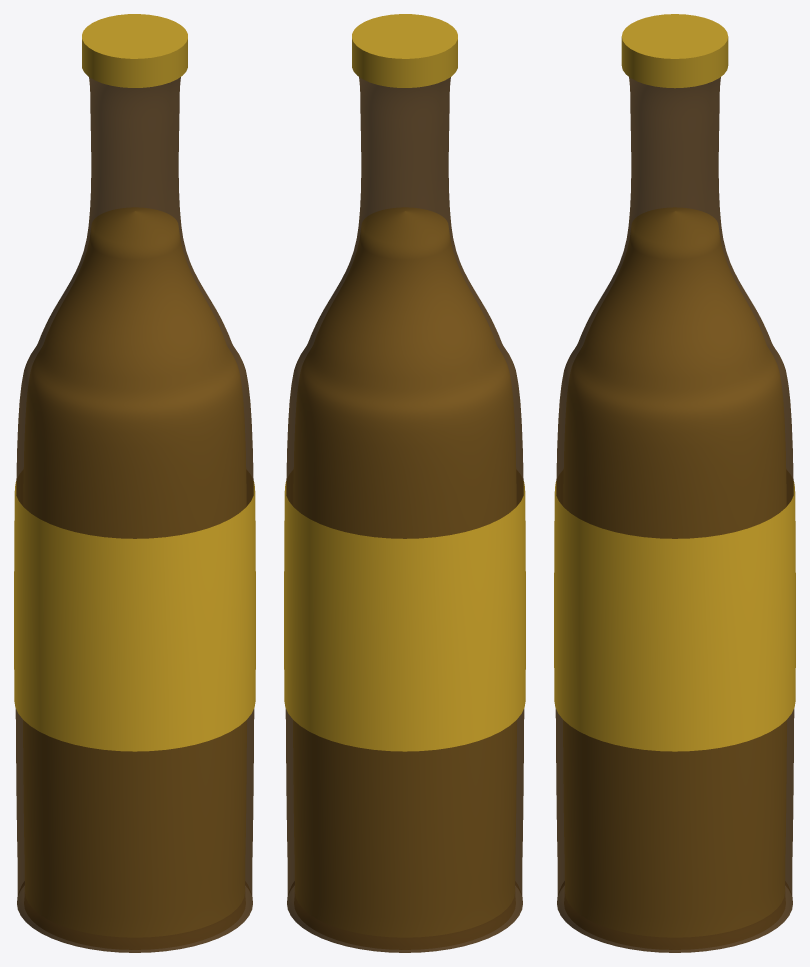
Rendered from aguila.glb.
3 views of the same model, side by side, from view 1: azimuth 30°, elevation 25°; view 2: azimuth 150°, elevation 25°; view 3: azimuth 270°, elevation 25° (orthographic).
Parts seen in each view (by area): view 1: vidrio, liquido, etiqueta, tapa; view 2: vidrio, liquido, etiqueta, tapa; view 3: vidrio, liquido, etiqueta, tapa.
Part boxes in pixels (x1=…): vidrio: x1=15, y1=77, x2=254, y2=952; liquido: x1=23, y1=207, x2=246, y2=937; etiqueta: x1=14, y1=481, x2=255, y2=751; tapa: x1=82, y1=14, x2=187, y2=87; vidrio: x1=285, y1=77, x2=524, y2=952; liquido: x1=293, y1=207, x2=516, y2=937; etiqueta: x1=284, y1=481, x2=525, y2=751; tapa: x1=352, y1=14, x2=457, y2=87; vidrio: x1=555, y1=77, x2=794, y2=952; liquido: x1=563, y1=207, x2=786, y2=937; etiqueta: x1=554, y1=481, x2=795, y2=751; tapa: x1=621, y1=14, x2=728, y2=88.
Size of the model in its own units: 0.0618 by 0.2443 by 0.0618.
